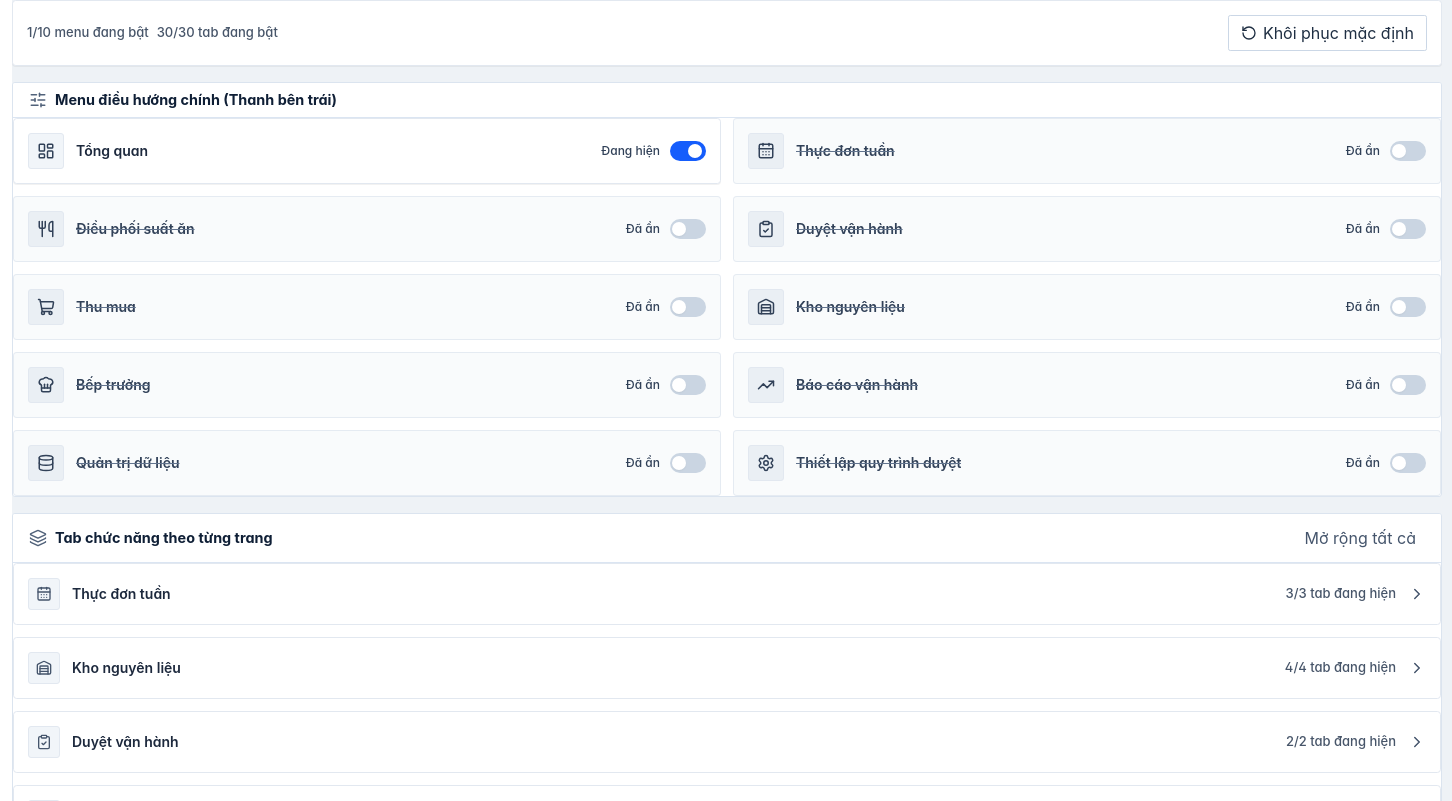
AdvancedDisplaySettings Component › guards against turning off all navigation items
Expected: the text "1/10 menu đang bật" is shown, [27,24,149,42]
Click the switch named "Tổng quan, đang hiện".
click(46, 151)  # box [13,118,721,184]
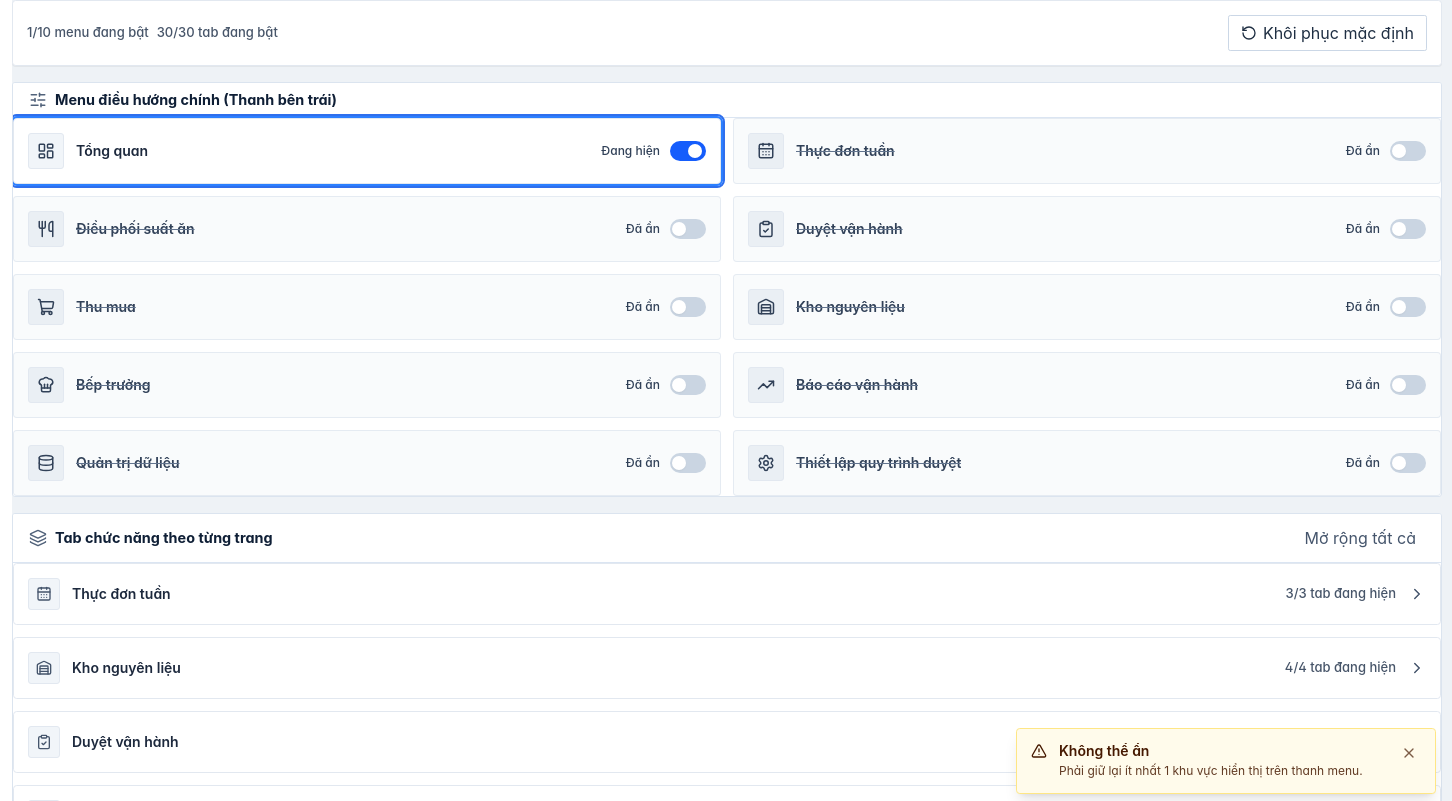
Expected: the text "1/10 menu đang bật" is shown, [27,24,149,42]
Expected: the text "Không thể ẩn" is shown, [1059,742,1150,759]
Expected: the text "Phải giữ lại ít nhất 1 khu vực hiển thị trên thanh menu." is shown, [1059,761,1385,781]
